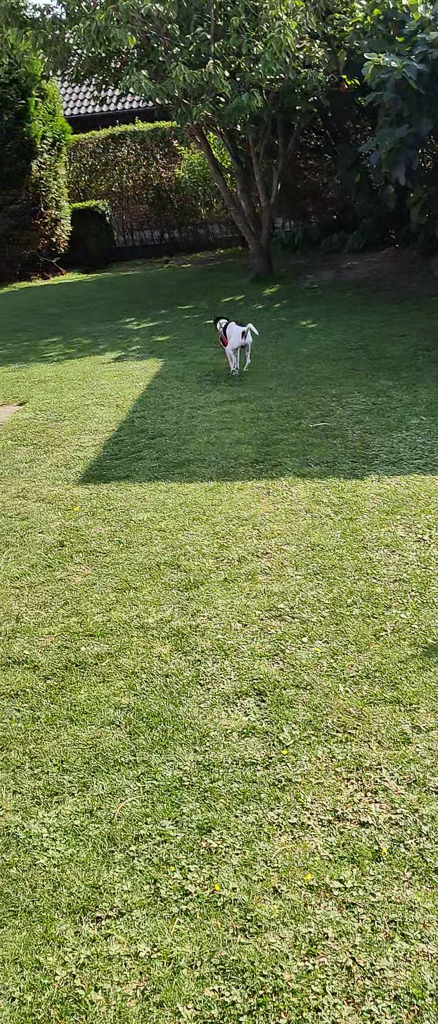Dog: (208, 306, 272, 386)
